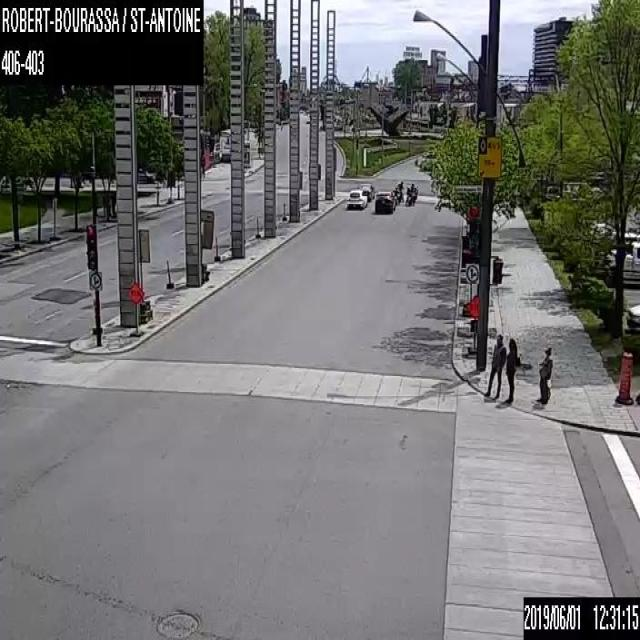construction: (136, 226, 150, 302), (126, 280, 144, 336), (615, 351, 633, 402), (466, 295, 479, 356), (200, 207, 213, 262), (49, 196, 59, 239)
pedestrian: (483, 332, 506, 398), (504, 332, 517, 401), (538, 346, 552, 406)
vehicle: (605, 240, 639, 284), (375, 190, 395, 212), (346, 188, 367, 208), (625, 301, 639, 327), (405, 180, 418, 205), (357, 182, 374, 200), (392, 179, 404, 203)
